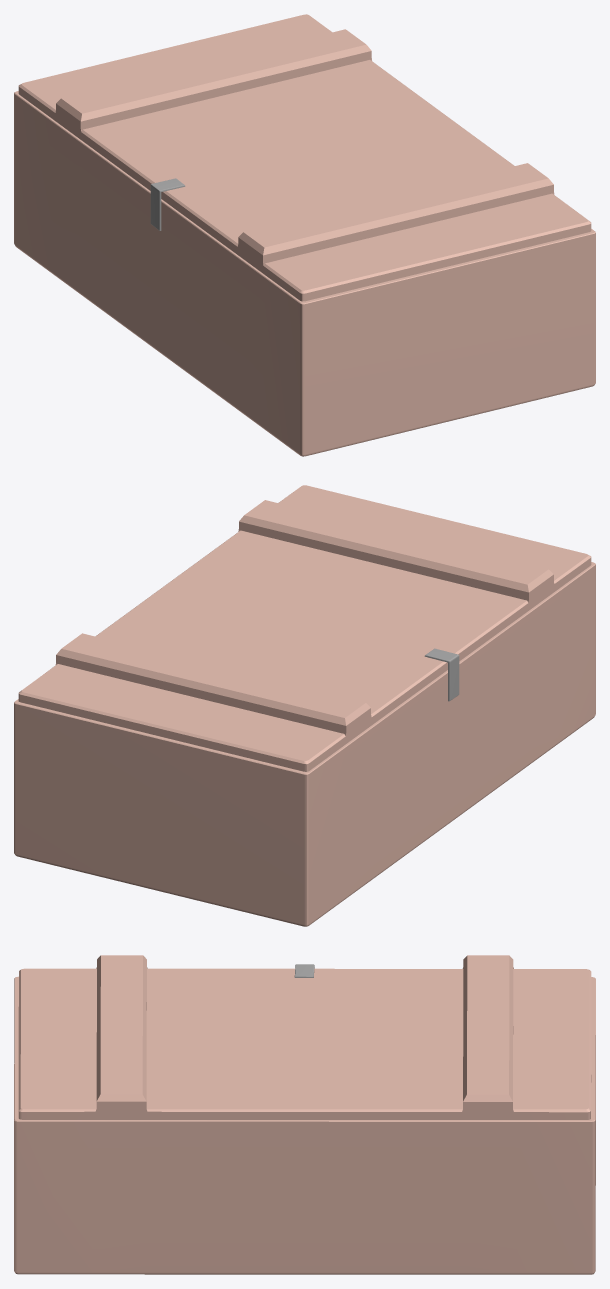
The model's file is Caixa 2.fbx.
3 renders of one model, top to bottom at view 1: azimuth 30°, elevation 25°; view 2: azimuth 150°, elevation 25°; view 3: azimuth 270°, elevation 25°, orthographic.
Visible parts, largest first — view 1: Caixa2; view 2: Caixa2; view 3: Caixa2.
Boxes of the visible parts, left/top/right/bottom form: Caixa2: left=14, top=14, right=595, bottom=456; Caixa2: left=14, top=485, right=595, bottom=926; Caixa2: left=14, top=955, right=595, bottom=1274.
Size of the model in its own units: 102 by 58.54 by 173.
